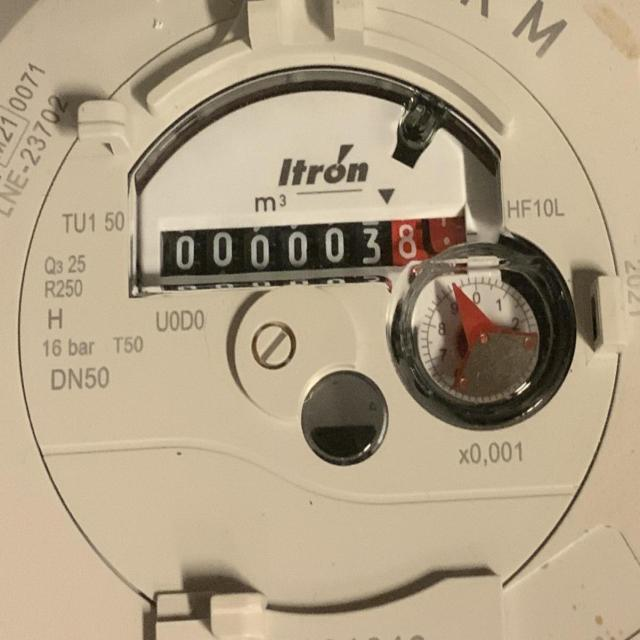gaz_meter: (18, 11, 621, 613)
indication: (161, 215, 471, 278)
